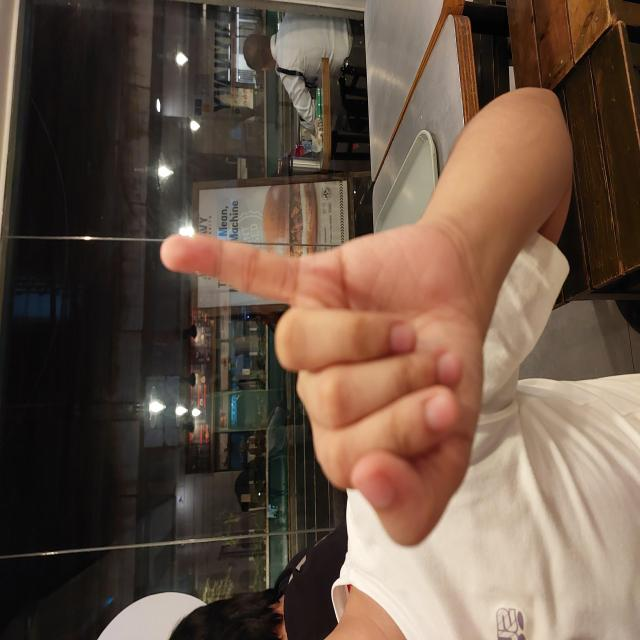I: (91, 159, 419, 481)
